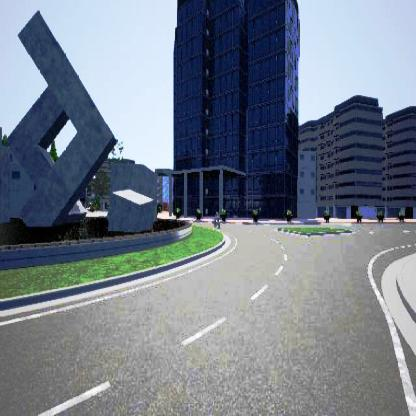bike: (210, 209, 220, 227)
